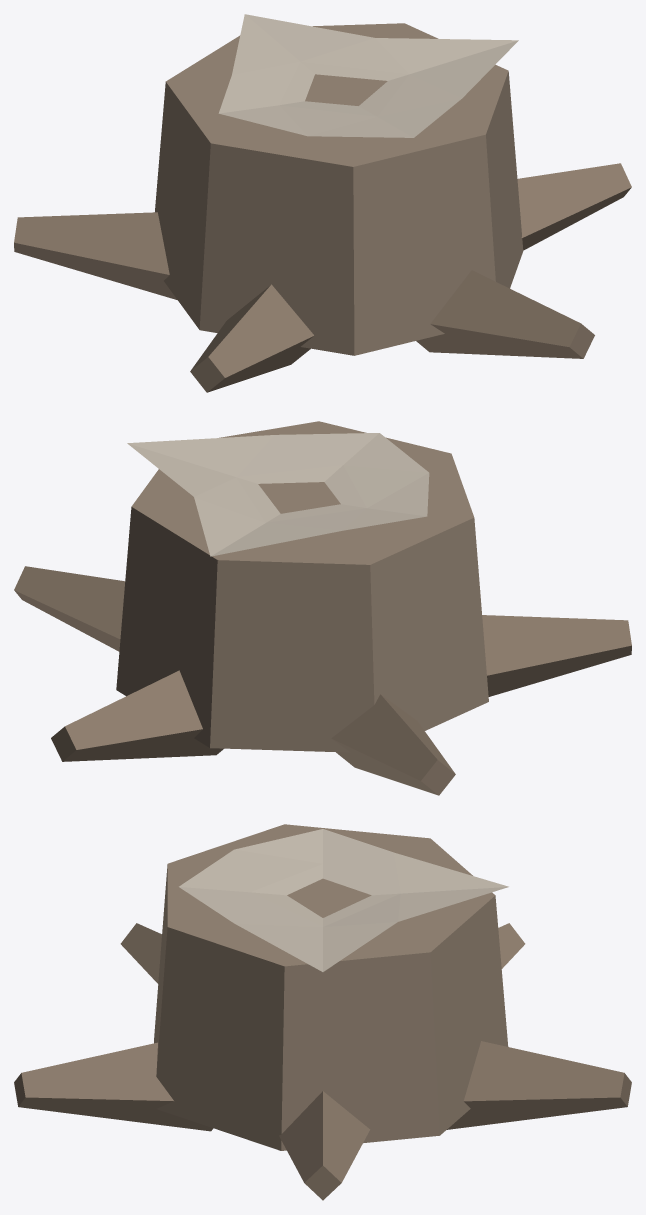
Rendered from stump_v19.glb.
The picture shows the model from 3 angles, top to bottom: view 1: azimuth 30°, elevation 25°; view 2: azimuth 150°, elevation 25°; view 3: azimuth 270°, elevation 25°; orthographic projection. The views are drawn at different scales.
Parts seen in each view (by area): view 1: lod0; view 2: lod0; view 3: lod0.
Boxes of the visible parts, box(x1,y1,x2,y2) form: lod0: box(14, 14, 631, 392); lod0: box(14, 421, 631, 795); lod0: box(14, 824, 631, 1200).
Size of what is drawn, in the model's own units: 1.26 by 0.5715 by 1.32.
